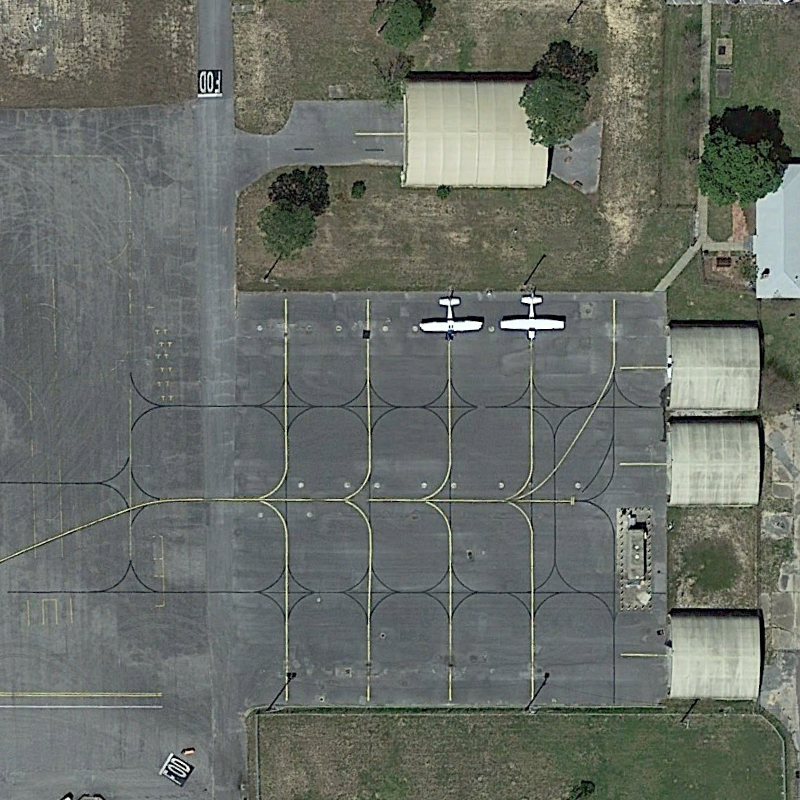airplane: (497, 292, 564, 339), (420, 292, 482, 339)
